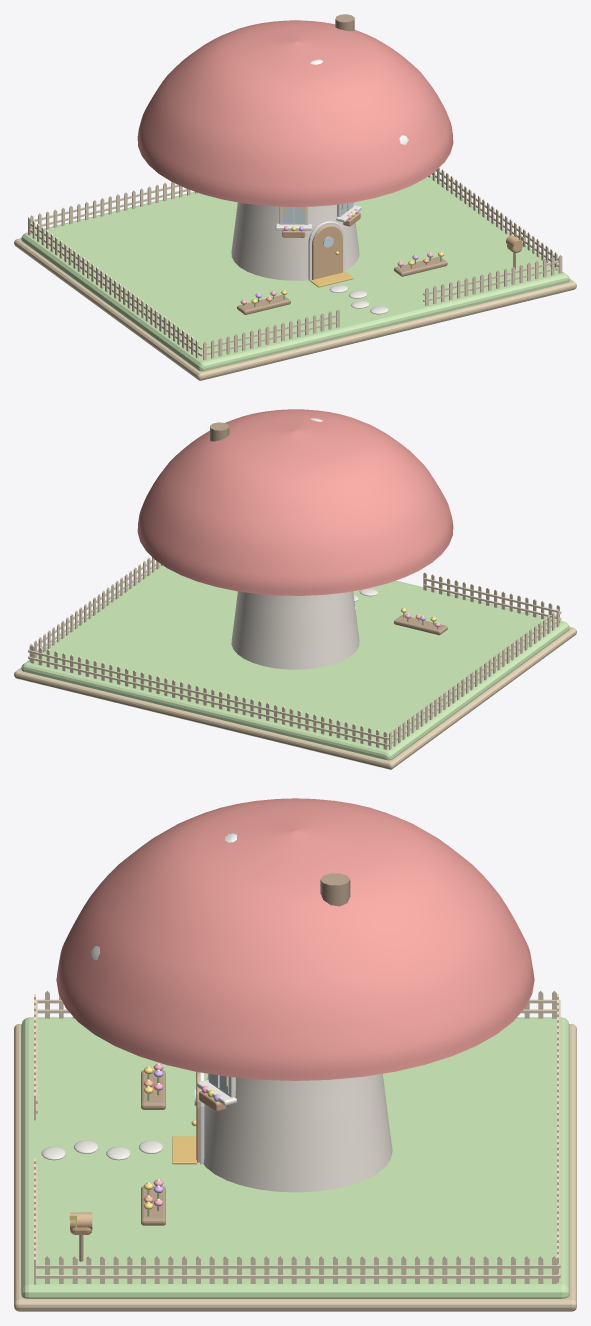
The model's file is building_forest_L07.glb.
3 views of the same model, one above another, from view 1: azimuth 30°, elevation 25°; view 2: azimuth 150°, elevation 25°; view 3: azimuth 270°, elevation 25° (orthographic). The views are drawn at different scales.
Visible parts, largest first — view 1: forest_L7; view 2: forest_L7; view 3: forest_L7.
Boxes of the visible parts, x1=… form: forest_L7: x1=14, y1=14, x2=576, y2=380; forest_L7: x1=14, y1=409, x2=576, y2=769; forest_L7: x1=14, y1=798, x2=576, y2=1311.
Size of the model in its own units: 26.61 by 15.17 by 22.6.
